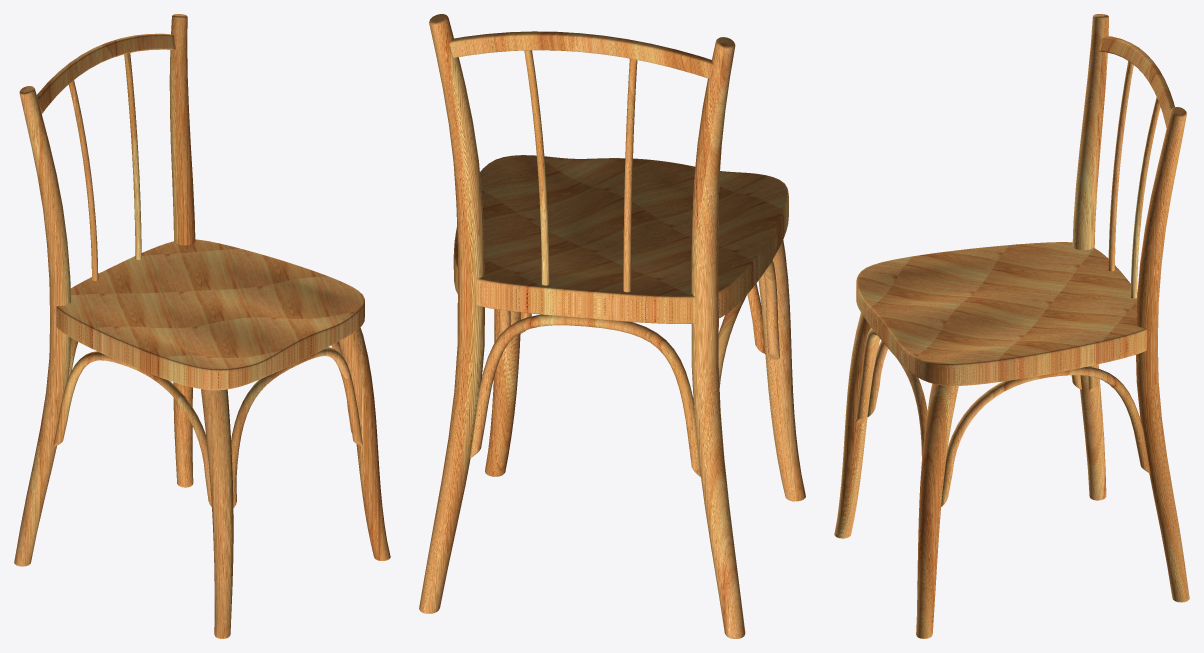
Rendered from chair.obj.
3 views of the same model, side by side, from view 1: azimuth 30°, elevation 25°; view 2: azimuth 150°, elevation 25°; view 3: azimuth 270°, elevation 25° (orthographic). The views are drawn at different scales.
Parts seen in each view (by area): view 1: 3DSMesh_0_0; view 2: 3DSMesh_0_0; view 3: 3DSMesh_0_0.
Part boxes in pixels (x1,y1,x2,y2): 3DSMesh_0_0: [14, 14, 390, 638]; 3DSMesh_0_0: [419, 14, 805, 638]; 3DSMesh_0_0: [834, 14, 1189, 638].
Bounding box in the file's own units: 41.84 × 65.34 × 43.19.
Materials: 1 (1 with a texture image).
